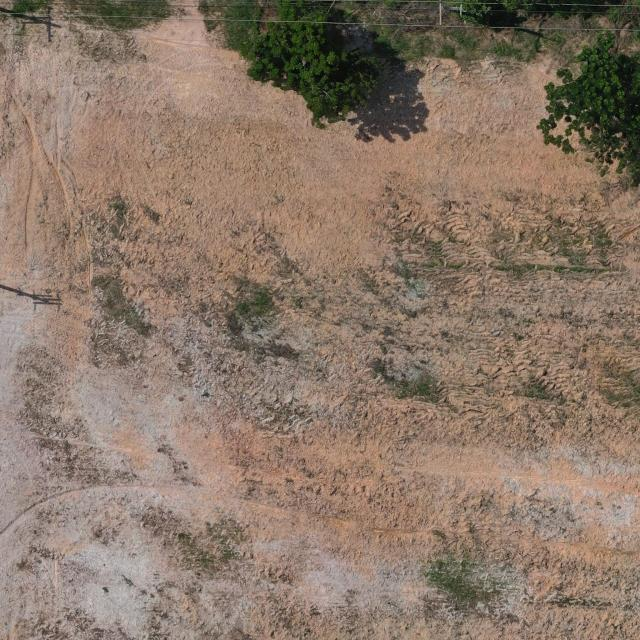Tree: (529, 30, 640, 193), (245, 0, 378, 131)
